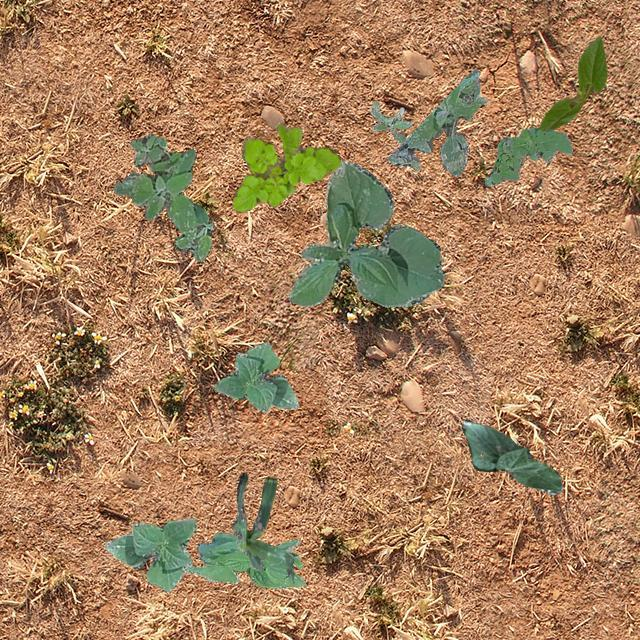crop: (286, 160, 444, 306), (461, 418, 562, 494), (183, 530, 304, 588), (230, 472, 294, 578), (104, 518, 194, 592), (538, 36, 606, 130), (214, 342, 298, 412)
weed: (112, 132, 212, 260), (386, 68, 486, 174), (232, 122, 340, 212), (484, 126, 570, 184), (369, 100, 412, 142)
